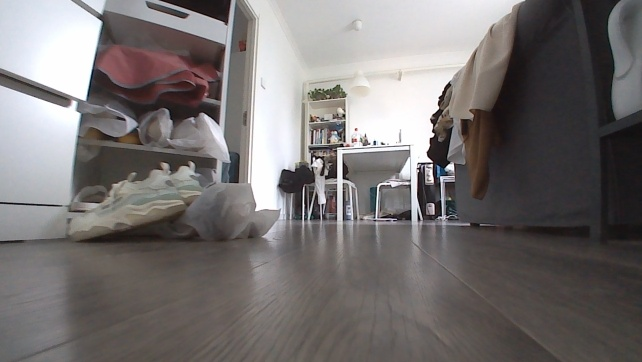dining_table: (300, 140, 429, 222)
shoe: (66, 161, 188, 242)
sofa1: (423, 0, 641, 237)
